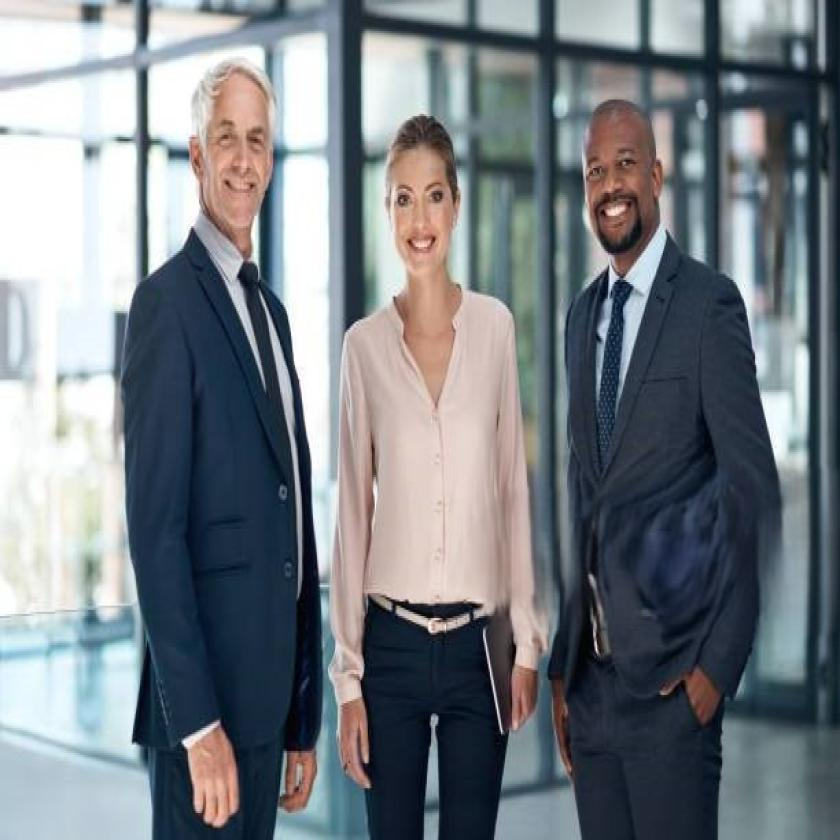Sin_casco: (180, 50, 281, 248), (576, 94, 662, 256), (379, 113, 462, 280)
